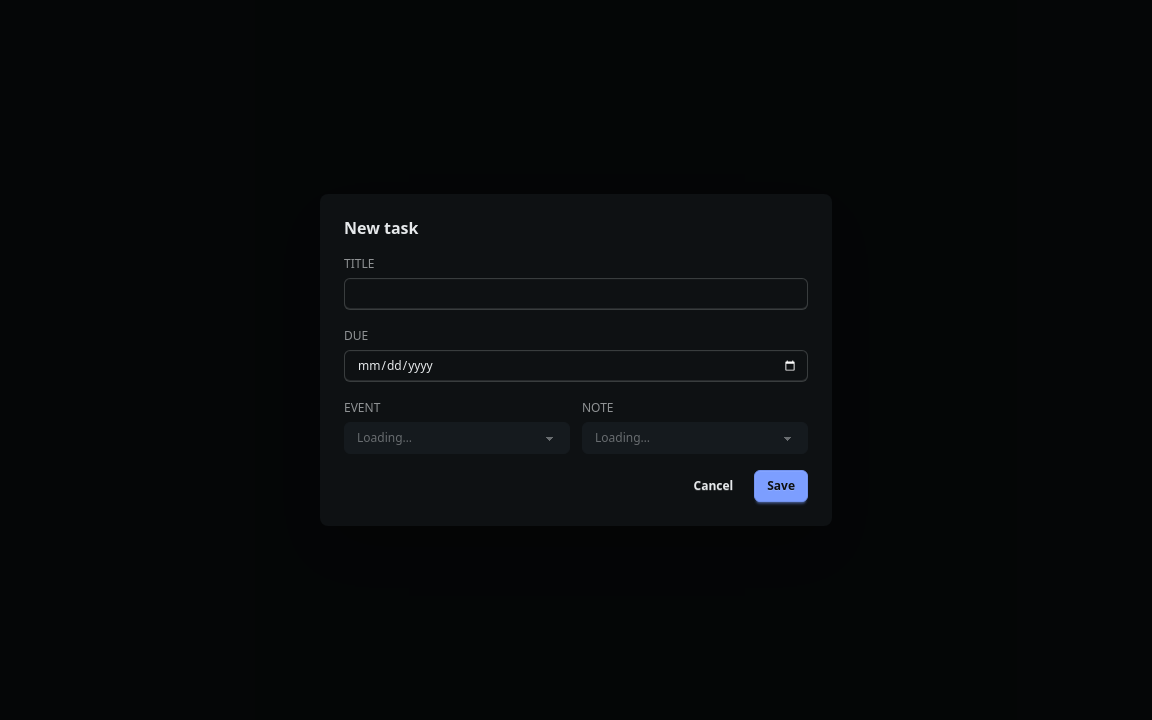
Test: TaskForm › shows server validation fields after a failed save
In the field labelled "Title": (576, 294) [344,278,808,310], type "x"
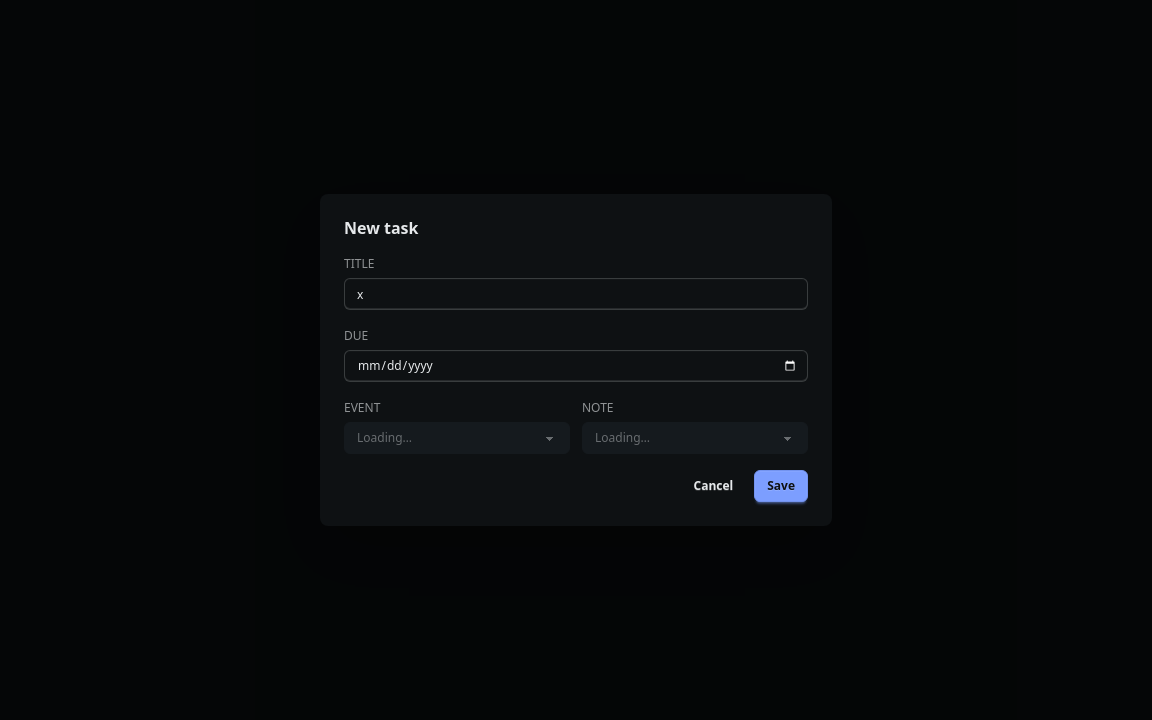
Click the button "Save": (781, 486) [754,470,808,502]
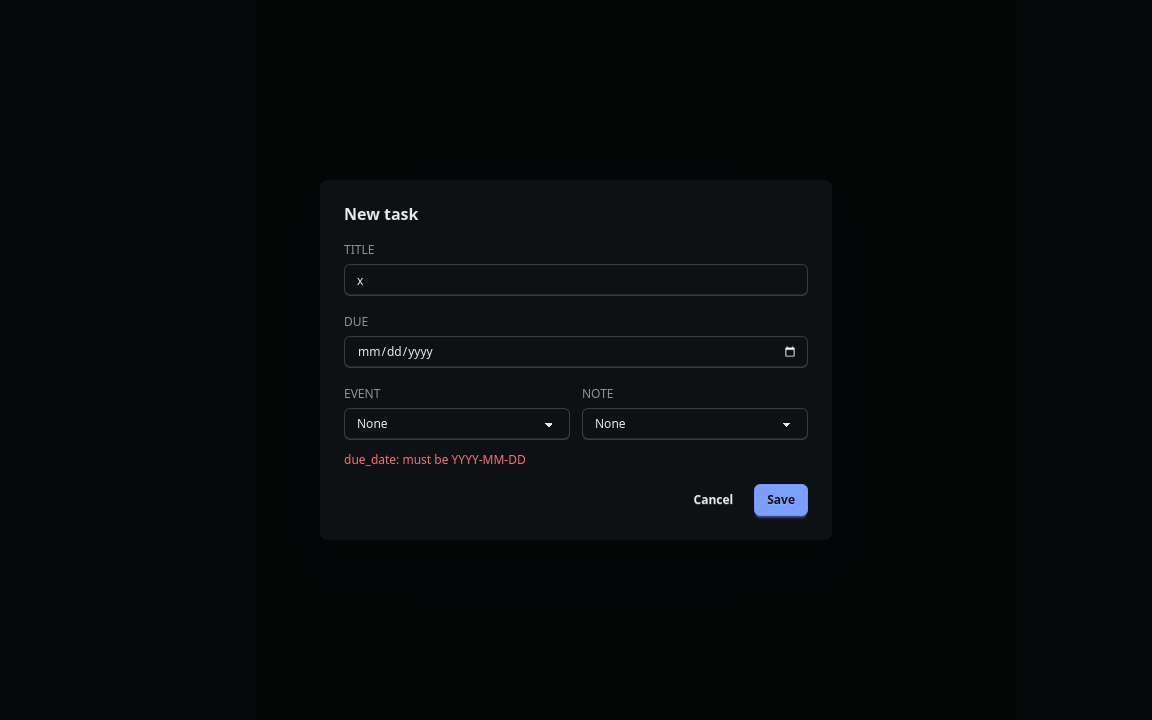
Now the list item "due_date: must be YYYY-MM-DD" is shown, box [344,451,526,468]
